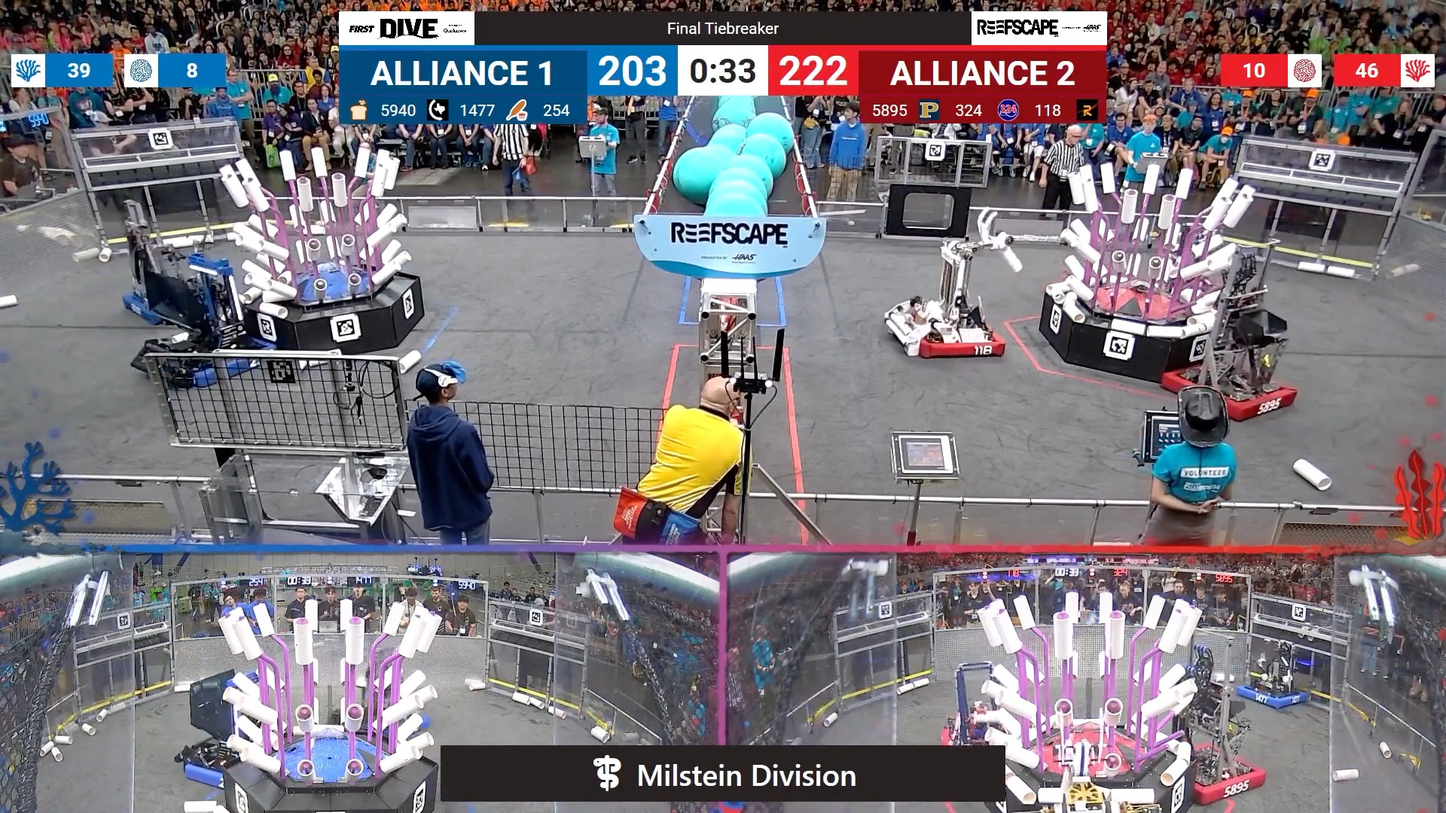bumpers: (1158, 365, 1303, 429), (888, 309, 1017, 368), (148, 332, 271, 390), (1178, 755, 1271, 806), (174, 747, 253, 786), (1227, 683, 1313, 714)
